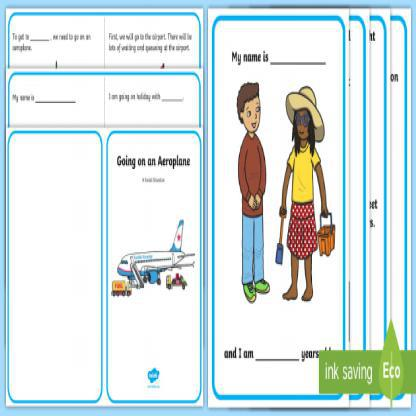CIV_Plane: (114, 216, 184, 288)
